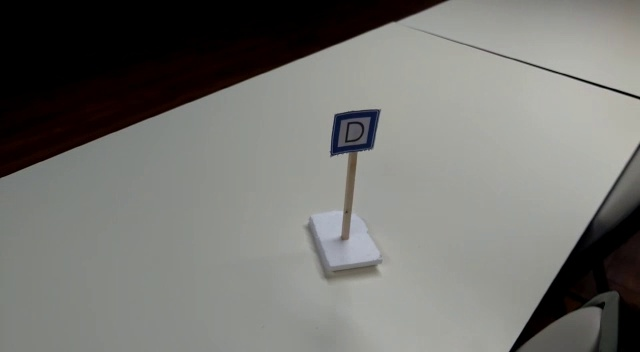durak: (331, 108, 378, 154)
